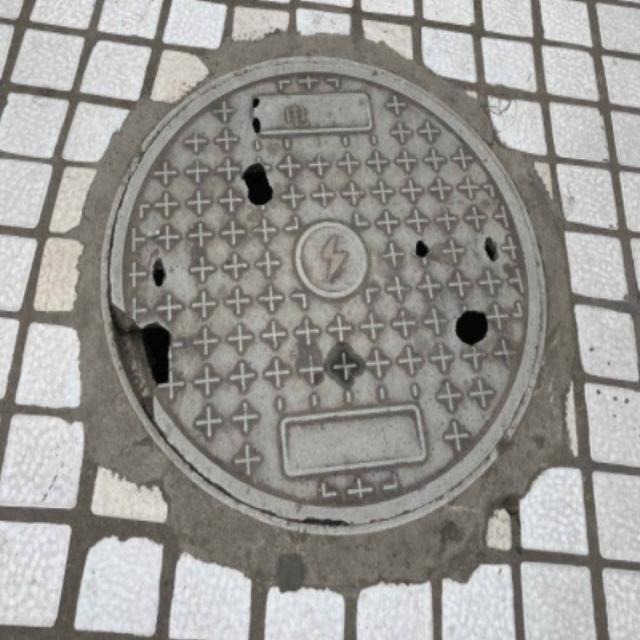manhole: (97, 57, 566, 541)
